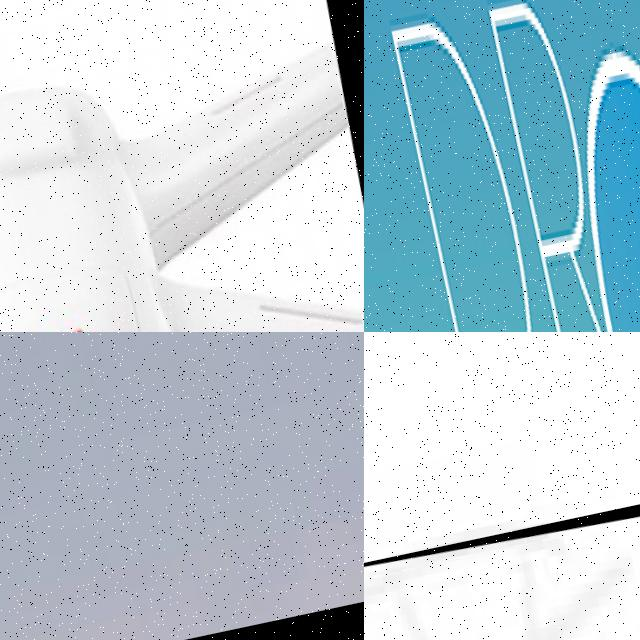drone: (0, 0, 364, 332), (364, 458, 640, 640)
